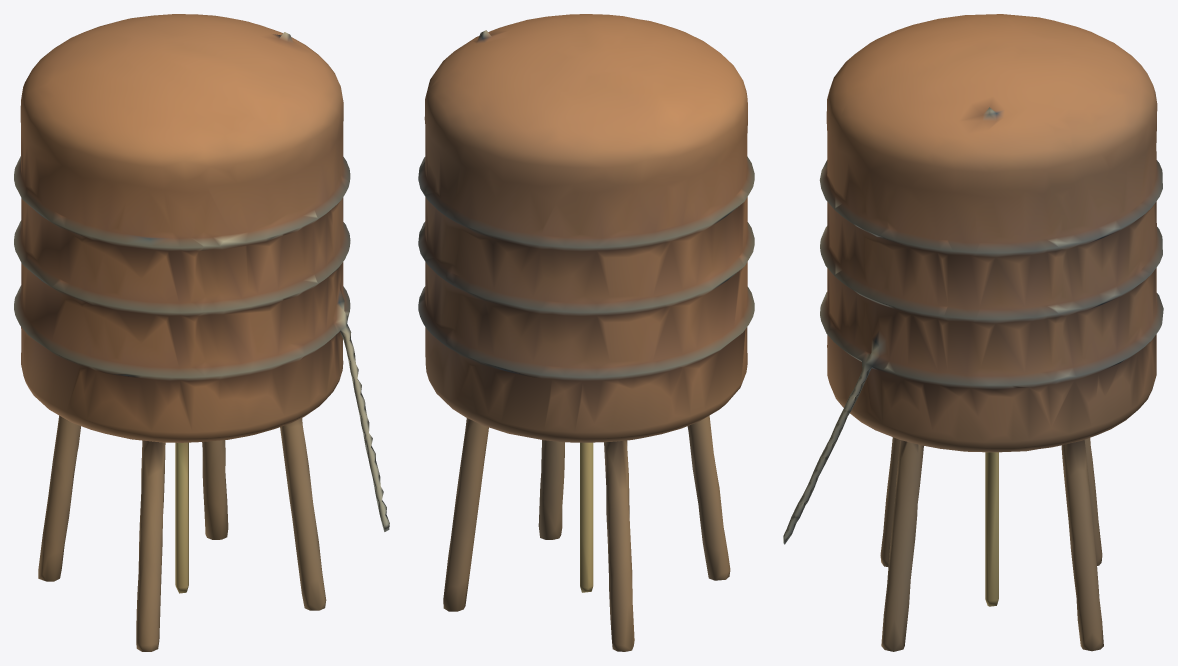
File: env_st_tank.glb
The picture shows the model from 3 angles, left to right: view 1: azimuth 30°, elevation 25°; view 2: azimuth 150°, elevation 25°; view 3: azimuth 270°, elevation 25°; orthographic projection. The views are drawn at different scales.
Parts seen in each view (by area): view 1: geometry_0; view 2: geometry_0; view 3: geometry_0.
Boxes of the visible parts, x1,y1,x2,y2 form: geometry_0: (14,14,389,651); geometry_0: (418,14,754,651); geometry_0: (783,14,1163,651).
Bounding box in the file's own units: 2.81 × 5.04 × 3.12.
